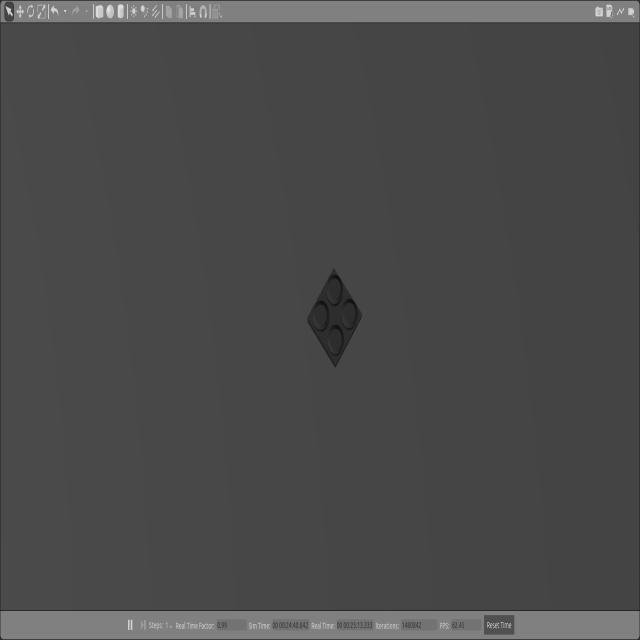block10: (308, 267, 362, 368)
